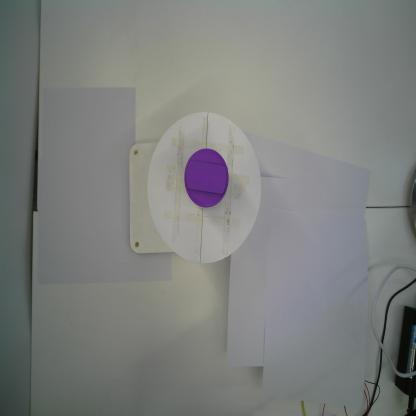Canned Food: (183, 145, 230, 212)
